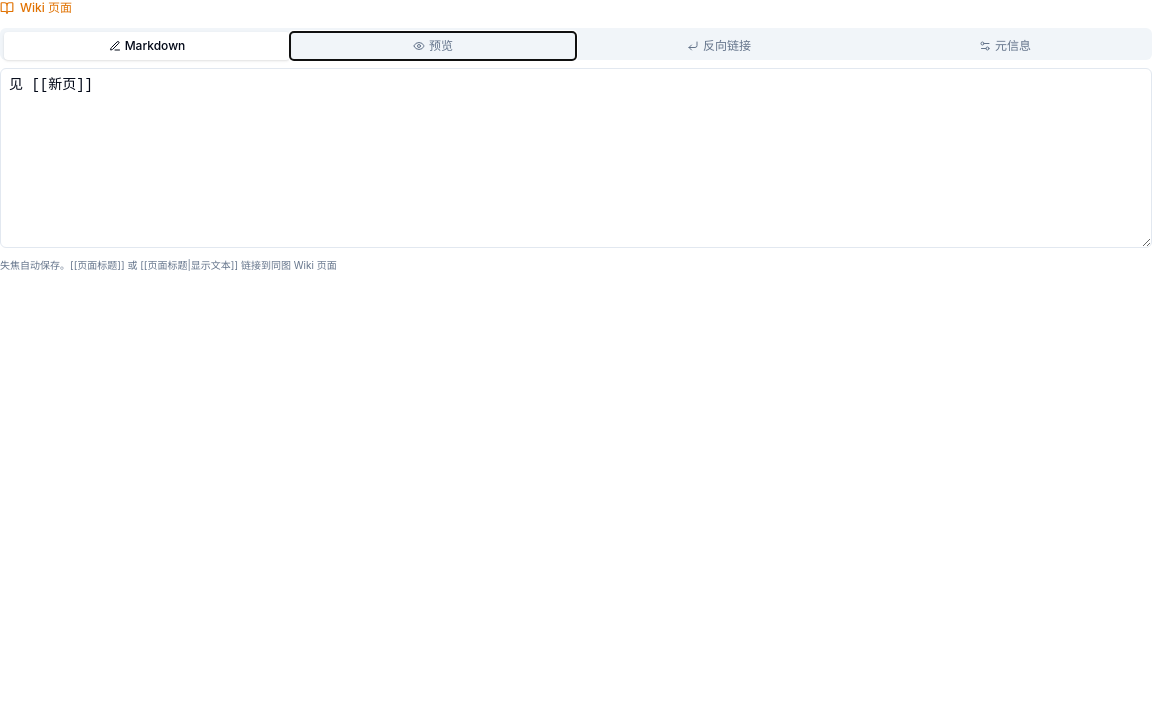
Test: WikiPageEditor — 预览页签 › 取消创建按钮关闭对话框
Press Enter in the tab "预览", box [290, 32, 576, 60]
Click the tab "预览" at [433, 46], box [290, 32, 576, 60]
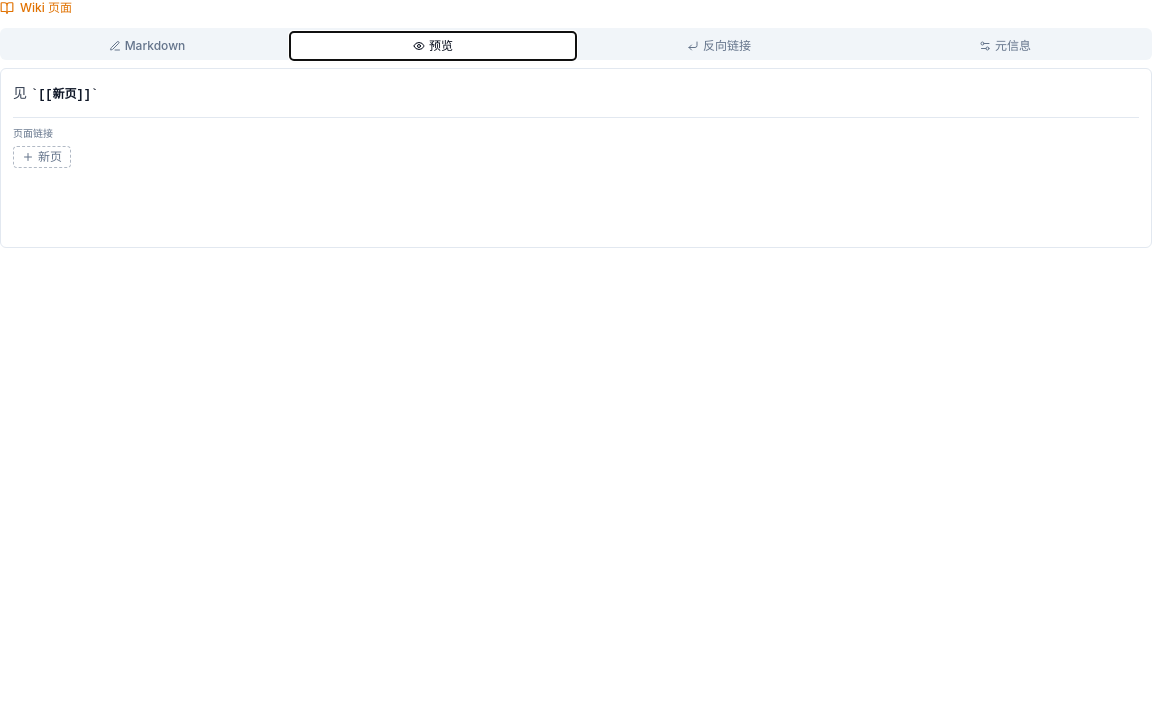
Click the button titled "页面「新页」不存在，点击创建" at [42, 157], box [13, 146, 71, 168]
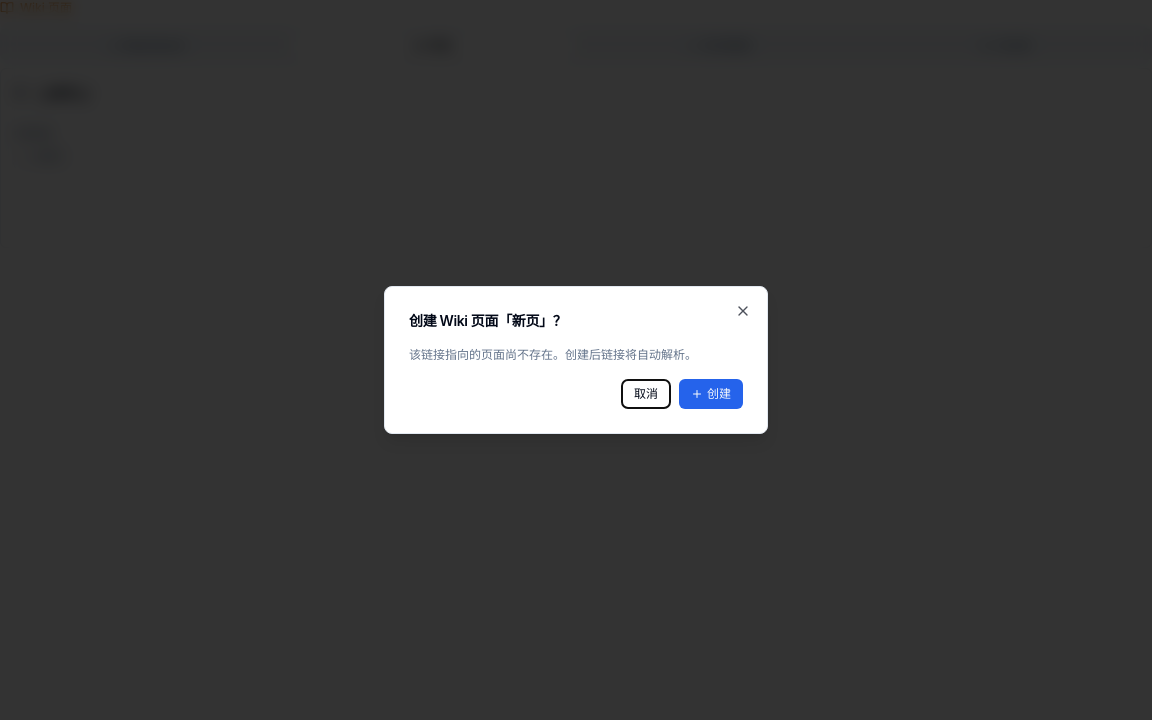
Expected: the heading "创建 Wiki 页面「新页」？" is shown, [409, 312, 566, 329]
Click the button "取消" at [646, 394], box [621, 379, 671, 409]
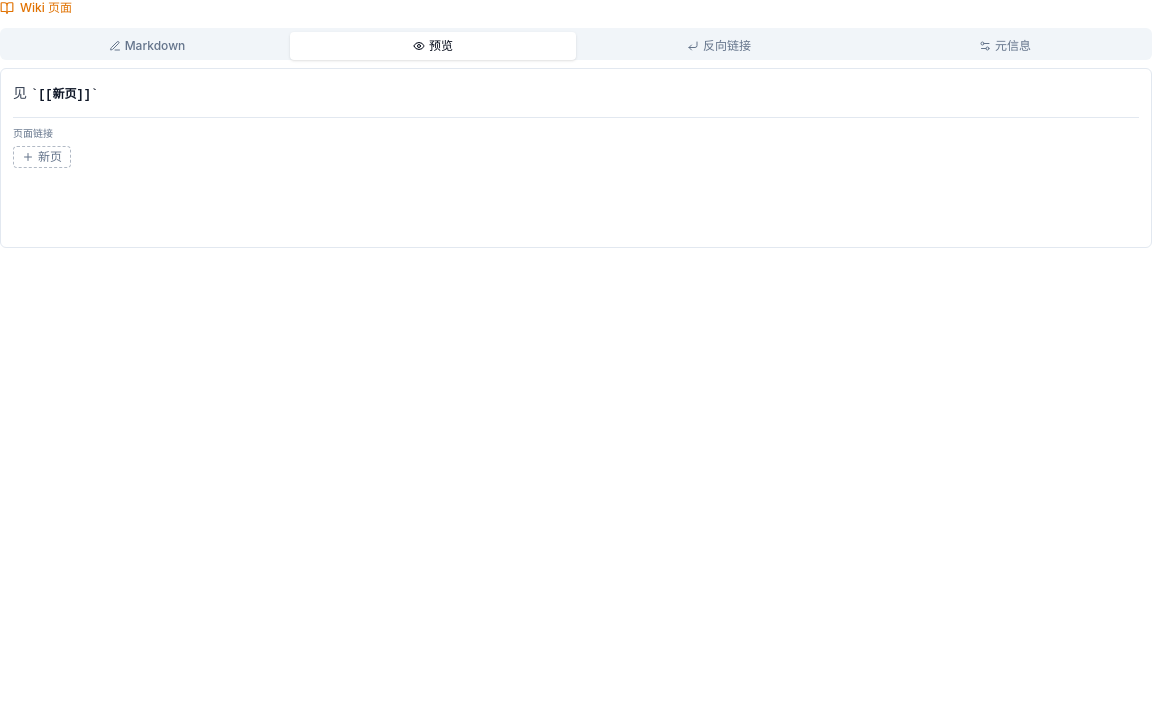
Expected: the heading "创建 Wiki 页面「新页」？" is gone
